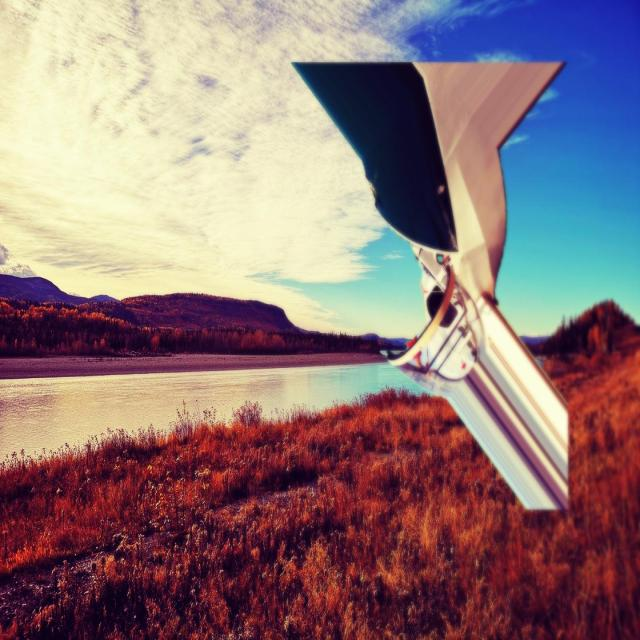airplane: (289, 59, 572, 511)
